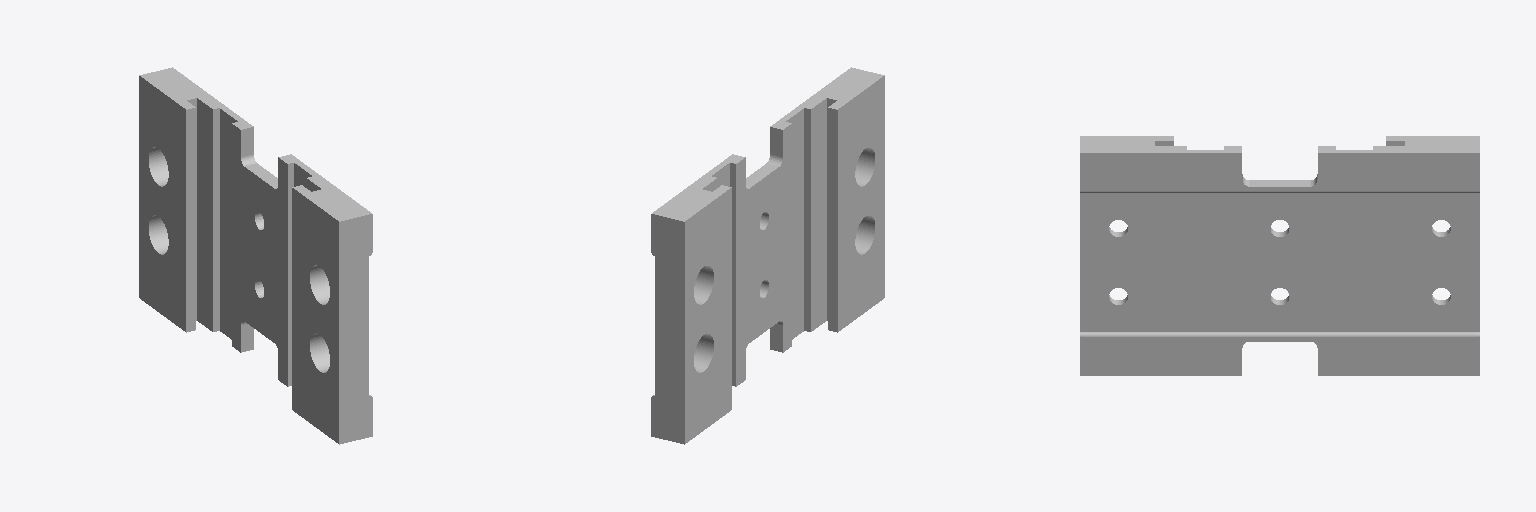
Rendered from gantry_cart_1x.obj.
3 renders of one model, left to right at view 1: azimuth 30°, elevation 25°; view 2: azimuth 150°, elevation 25°; view 3: azimuth 270°, elevation 25°, orthographic.
Visible parts, largest first — view 1: gantry_cart_1x; view 2: gantry_cart_1x; view 3: gantry_cart_1x.
Part boxes in pixels (x1,y1,x2,y2): gantry_cart_1x: (139, 67, 372, 444); gantry_cart_1x: (651, 67, 884, 444); gantry_cart_1x: (1080, 136, 1479, 375).
Bounding box in the file's own units: 10.25 × 65.5 × 106.